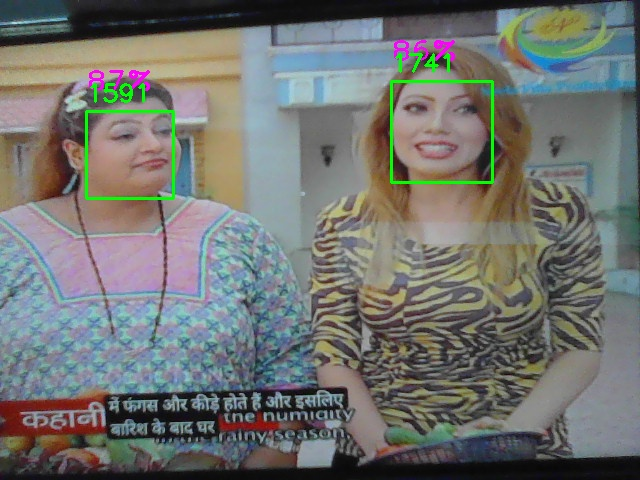fake: (391, 81, 493, 183), (86, 111, 174, 199)
